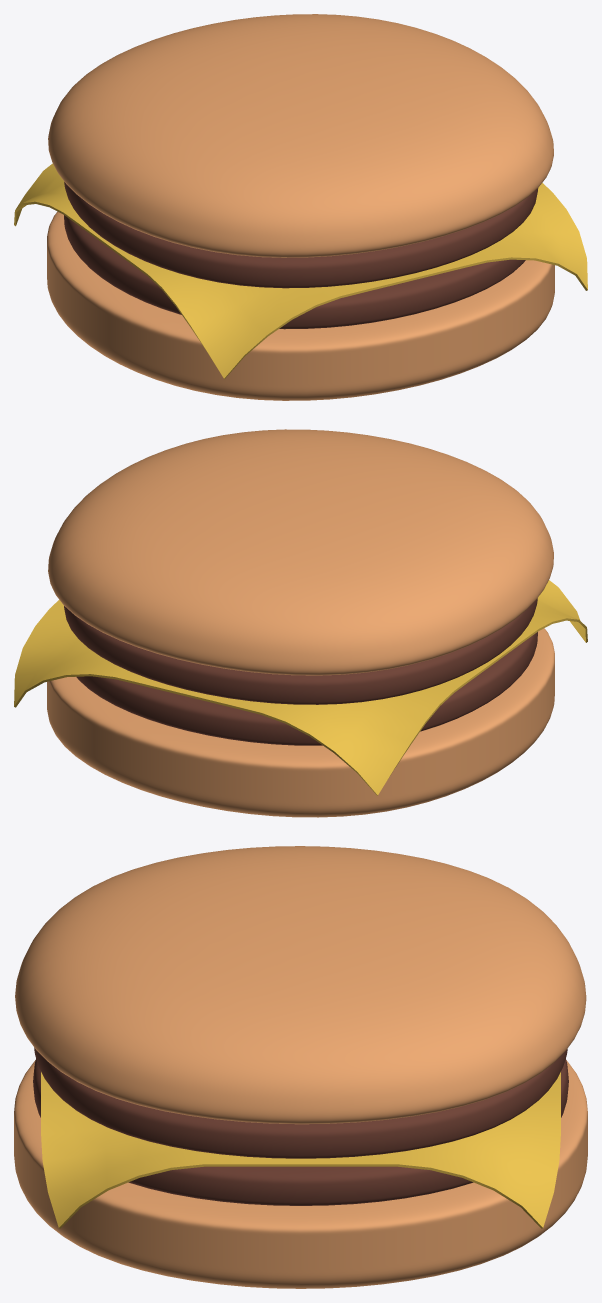
File: hamburger.glb
The picture shows the model from 3 angles, top to bottom: view 1: azimuth 30°, elevation 25°; view 2: azimuth 150°, elevation 25°; view 3: azimuth 270°, elevation 25°; orthographic projection. The views are drawn at different scales.
Parts seen in each view (by area): view 1: topBunCube, bottomBunCube, cheesePlane, topMeatCube, bottomMeatCube; view 2: topBunCube, bottomBunCube, cheesePlane, topMeatCube, bottomMeatCube; view 3: topBunCube, bottomBunCube, cheesePlane, topMeatCube, bottomMeatCube.
Boxes of the visible parts, x1,y1,x2,y2 form: topBunCube: (48, 14, 553, 257); bottomBunCube: (47, 211, 554, 400); cheesePlane: (14, 163, 587, 378); topMeatCube: (64, 182, 538, 288); bottomMeatCube: (64, 215, 525, 329); topBunCube: (48, 429, 553, 675); bottomBunCube: (47, 628, 554, 817); cheesePlane: (14, 580, 587, 795); topMeatCube: (64, 598, 537, 704); bottomMeatCube: (76, 632, 537, 745); topBunCube: (15, 846, 586, 1124); bottomBunCube: (14, 1060, 587, 1288); cheesePlane: (41, 1072, 560, 1228); topMeatCube: (34, 1047, 567, 1158); bottomMeatCube: (33, 1058, 568, 1205).
Size of the model in its own units: 9.17 by 4.77 by 9.17.
